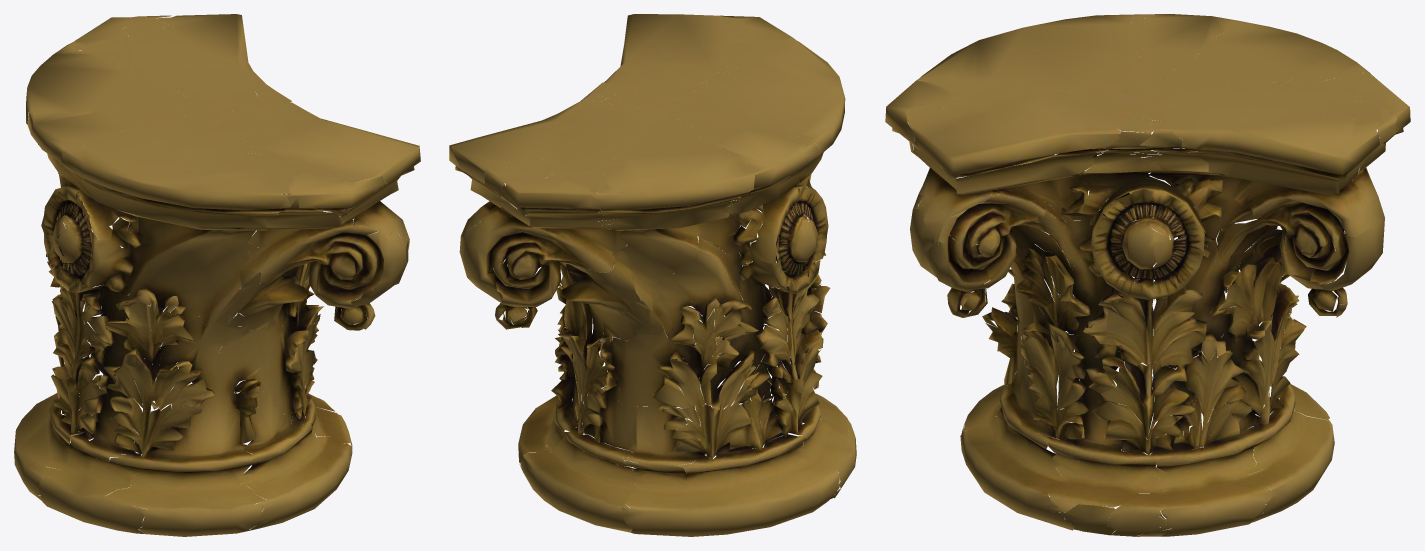
The model's file is hf_capital.glb.
3 views of the same model, side by side, from view 1: azimuth 30°, elevation 25°; view 2: azimuth 150°, elevation 25°; view 3: azimuth 270°, elevation 25° (orthographic). The views are drawn at different scales.
Parts seen in each view (by area): view 1: tripo_node_beeb635d-606d-48f8-8293-cdb9b316902c; view 2: tripo_node_beeb635d-606d-48f8-8293-cdb9b316902c; view 3: tripo_node_beeb635d-606d-48f8-8293-cdb9b316902c.
Part boxes in pixels (box(x1,y1,x2,y2)): tripo_node_beeb635d-606d-48f8-8293-cdb9b316902c: box(14, 14, 420, 536); tripo_node_beeb635d-606d-48f8-8293-cdb9b316902c: box(449, 14, 856, 536); tripo_node_beeb635d-606d-48f8-8293-cdb9b316902c: box(885, 14, 1410, 536).
Size of the model in its own units: 0.7085 by 0.8049 by 0.9977.
Materials: 1 (1 with a texture image).
